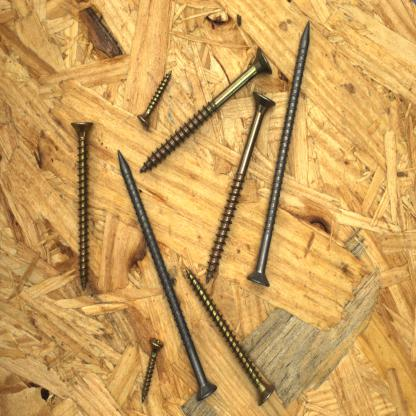screw: (115, 144, 220, 405), (244, 17, 314, 290), (137, 43, 275, 176), (201, 84, 278, 288), (183, 264, 279, 409), (68, 116, 96, 294), (134, 68, 175, 132), (135, 334, 167, 406)
